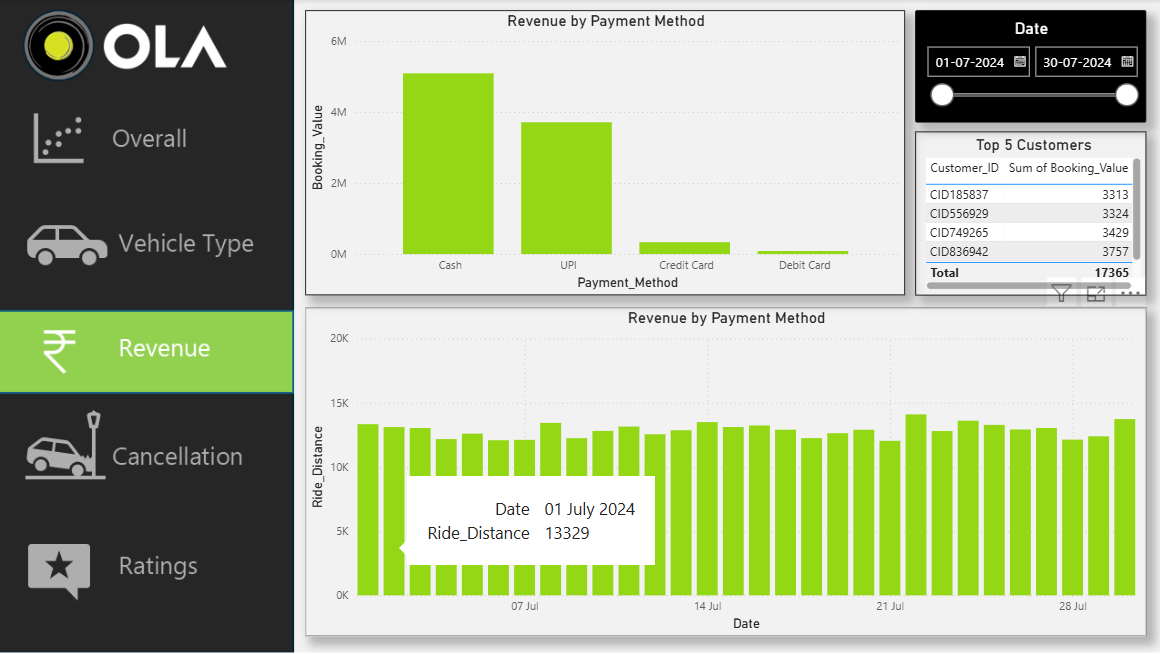

What the dashboard file says about the page in this screenshot:
{"tool":"powerbi","page":{"name":"Revenue","canvas":[1280,720],"ordinal":2},"visuals":[{"type":"actionButton","box":[0,223.2,322.1,101.3],"z":0},{"type":"actionButton","box":[0,339,322.1,101.3],"z":1000},{"type":"actionButton","box":[0,453.6,322.1,101.3],"z":2000},{"type":"actionButton","box":[0,571.9,322.1,101.3],"z":3000},{"type":"actionButton","box":[0,112.2,322.1,92.9],"z":4000},{"type":"columnChart","title":"Revenue by Payment Method","fields":{"Y":["Sum(ola-bookings.Booking_Value)"],"Category":["ola-bookings.Payment_Method"]},"box":[336.2,12.3,658.7,312.9],"z":5000},{"type":"columnChart","title":"Revenue by Payment Method","fields":{"Y":["Sum(ola-bookings.Ride_Distance)"],"Category":["ola-bookings.Date"]},"box":[336.2,338.9,923.5,360.9],"z":6000},{"type":"slicer","title":"Date","fields":{"Values":["ola-bookings.Date"]},"box":[1005.8,12.3,253.9,123.5],"z":7000},{"type":"tableEx","title":"Top 5 Customers","fields":{"Values":["ola-bookings.Customer_ID","Sum(ola-bookings.Booking_Value)"]},"box":[1005.8,145.5,253.9,179.8],"z":8000}]}

Visuals, with their boxes on the page's 1280x720 design canvas (x1, y1, x2, y2). These are canvas units, not pixel positions in the 1160x654 screenshot, which may show the page scaled, cropped or inside an application window:
actionButton: bbox=[0, 223, 322, 324]
actionButton: bbox=[0, 339, 322, 440]
actionButton: bbox=[0, 454, 322, 555]
actionButton: bbox=[0, 572, 322, 673]
actionButton: bbox=[0, 112, 322, 205]
"Revenue by Payment Method" columnChart: bbox=[336, 12, 995, 325]
"Revenue by Payment Method" columnChart: bbox=[336, 339, 1260, 700]
"Date" slicer: bbox=[1006, 12, 1260, 136]
"Top 5 Customers" tableEx: bbox=[1006, 146, 1260, 325]
